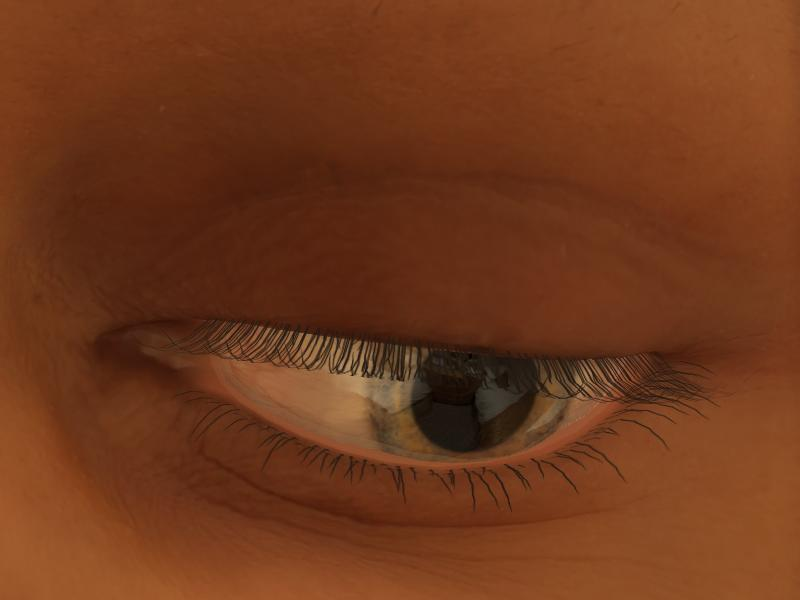eye: (367, 332, 578, 467)
